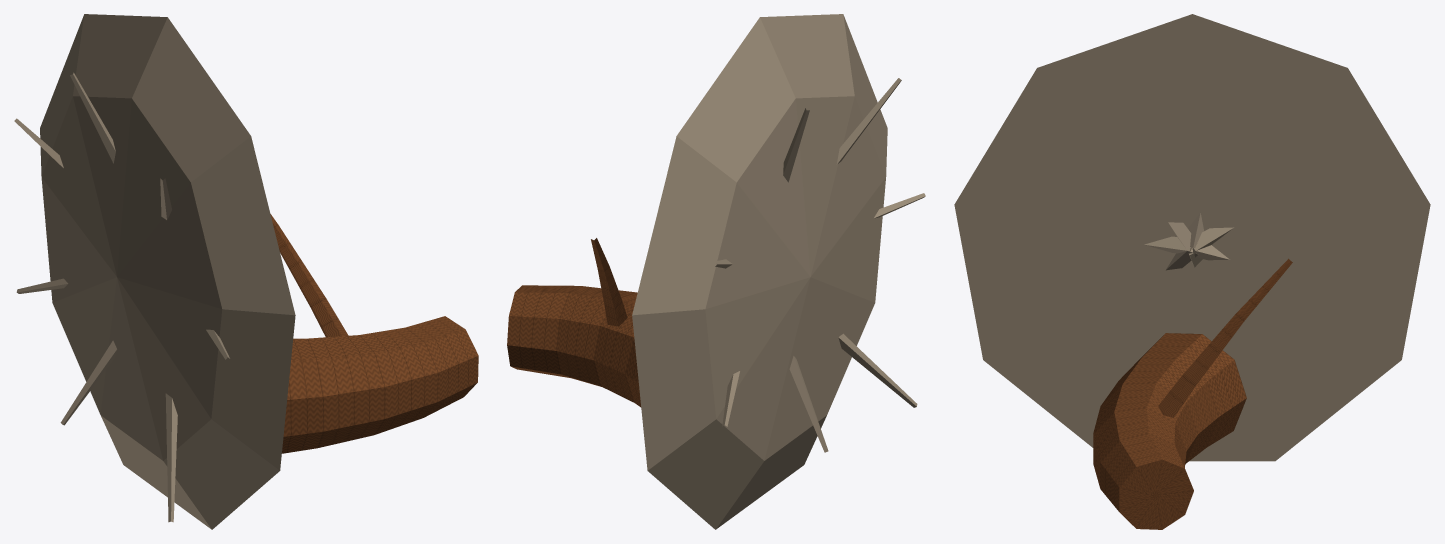
File: dense-temperate-forest-flora-root-ball-c7a95a98__28422.glb
3 views of the same model, side by side, from view 1: azimuth 30°, elevation 25°; view 2: azimuth 150°, elevation 25°; view 3: azimuth 270°, elevation 25° (orthographic). The views are drawn at different scales.
Parts seen in each view (by area): view 1: root-ball_1, root-ball_0; view 2: root-ball_1, root-ball_0; view 3: root-ball_1, root-ball_0.
Part boxes in pixels (box(x1,y1,x2,y2)): root-ball_1: box(14, 14, 295, 529); root-ball_0: box(270, 214, 478, 453); root-ball_1: box(632, 14, 925, 529); root-ball_0: box(507, 238, 641, 407); root-ball_1: box(954, 14, 1430, 461); root-ball_0: box(1093, 258, 1292, 529).
Size of the model in its own units: 2.55 by 3.26 by 3.14.
Materials: 2 (1 with a texture image).
